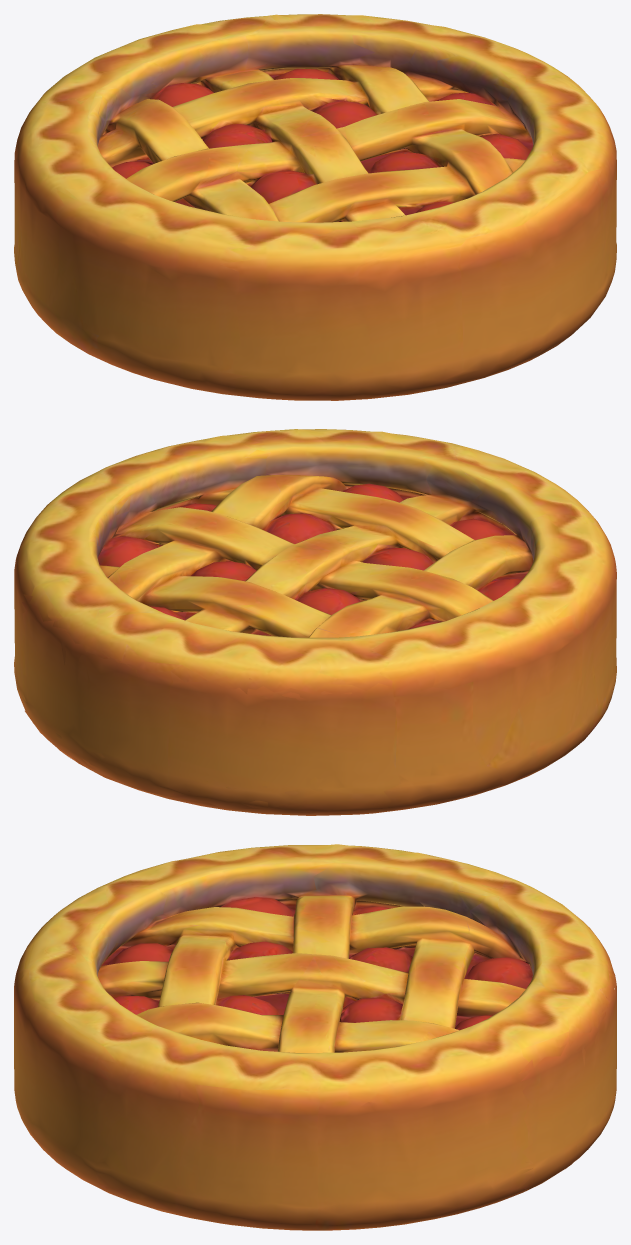
File: puck-cherrypie.glb
3 renders of one model, top to bottom at view 1: azimuth 30°, elevation 25°; view 2: azimuth 150°, elevation 25°; view 3: azimuth 270°, elevation 25°, orthographic.
Parts seen in each view (by area): view 1: tripo_node_1d9c4062-a35e-4932-ac6d-282fbd709dc3; view 2: tripo_node_1d9c4062-a35e-4932-ac6d-282fbd709dc3; view 3: tripo_node_1d9c4062-a35e-4932-ac6d-282fbd709dc3.
Boxes of the visible parts, <box> form: tripo_node_1d9c4062-a35e-4932-ac6d-282fbd709dc3: <box>14,14,616,400</box>; tripo_node_1d9c4062-a35e-4932-ac6d-282fbd709dc3: <box>14,429,616,815</box>; tripo_node_1d9c4062-a35e-4932-ac6d-282fbd709dc3: <box>14,844,616,1230</box>.
Size of the model in its own units: 1 by 0.2833 by 1.
Materials: 1 (1 with a texture image).
